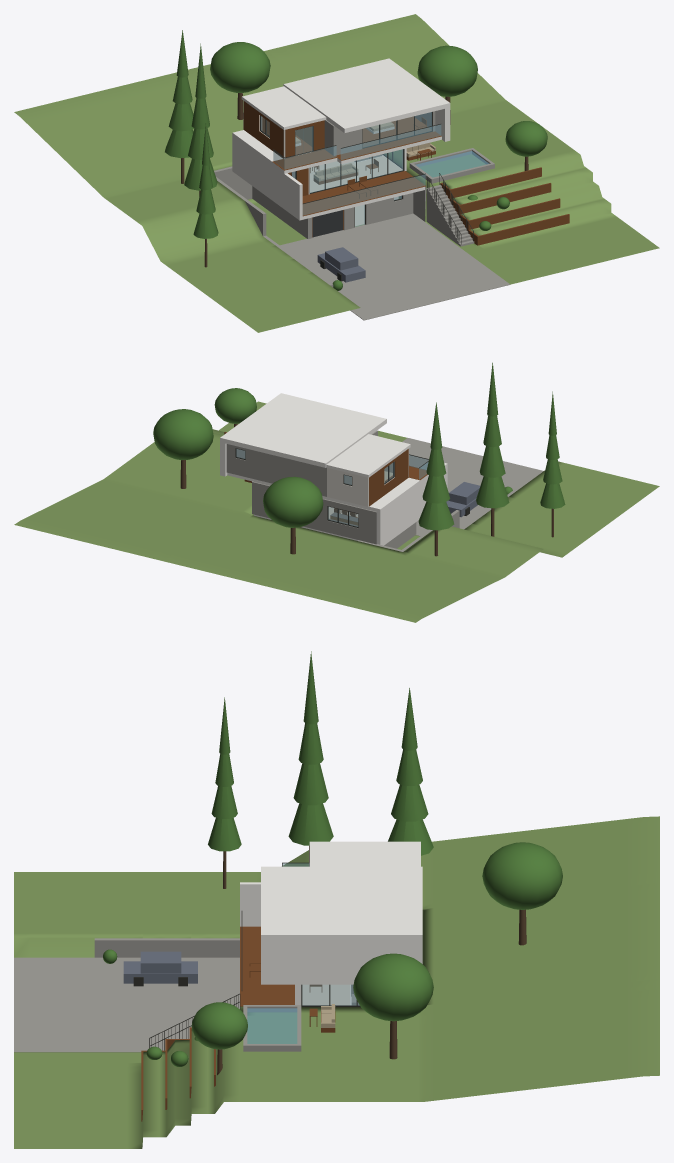
File: contemporary.glb
3 views of the same model, one above another, from view 1: azimuth 30°, elevation 25°; view 2: azimuth 150°, elevation 25°; view 3: azimuth 270°, elevation 25° (orthographic). The views are drawn at different scales.
Visible parts, largest first — view 1: Site, Drive, concrete, Tree (×8), Master suite roof, Wall (×4), Terrace wall, timber (×4), Glazing (×2), Glass rail (×3), Terrace, Timber box roof, Balcony (×2), Upper floor slab (+10 smaller); view 2: Site, Tree (×11), Master suite roof, Wall (×7), Drive, concrete, Timber box roof, Upper floor slab, Timber boards (×2), Frame fin, master suite, Car, Glazing; view 3: Site, Tree (×10), Drive, concrete, Master suite roof, Frame fin, master suite, Timber box roof, Retaining wall, the drive, Terrace, Car (×2), Pool water, Glazing, Living (+1 smaller).
Boxes of the visible parts, x1,y1,x2,y2 form: Site: (14, 14, 659, 332); Drive, concrete: (280, 213, 510, 320); Tree (×8): (165, 42, 547, 238); Master suite roof: (283, 58, 450, 133); Wall (×4): (232, 126, 393, 238); Terrace wall, timber (×4): (449, 167, 569, 245); Glazing (×2): (310, 112, 431, 192); Glass rail (×3): (284, 124, 441, 215); Terrace: (302, 171, 425, 216); Timber box roof: (241, 86, 326, 129); Balcony (×2): (272, 131, 441, 170); Upper floor slab: (232, 130, 441, 173); Site: (14, 401, 659, 622); Tree (×11): (153, 388, 565, 530); Master suite roof: (225, 393, 386, 467); Wall (×7): (245, 448, 447, 544); Drive, concrete: (402, 438, 543, 536); Timber box roof: (326, 434, 410, 477); Upper floor slab: (227, 472, 428, 512); Timber boards (×2): (369, 449, 408, 506); Frame fin, master suite: (220, 393, 285, 476); Car: (448, 482, 480, 505); Glazing: (328, 507, 358, 526); Site: (14, 816, 659, 1148); Tree (×10): (191, 723, 562, 1049); Drive, concrete: (14, 957, 239, 1052); Master suite roof: (261, 866, 422, 940); Frame fin, master suite: (261, 933, 422, 984); Timber box roof: (309, 841, 420, 866); Retaining wall, the drive: (94, 938, 239, 957); Terrace: (240, 926, 294, 1006); Car (×2): (123, 951, 197, 983); Pool water: (247, 1008, 297, 1043); Glazing: (302, 984, 359, 1005); Living: (302, 984, 349, 1005).
Bounding box in the file's own units: 38 × 19.03 × 40.
